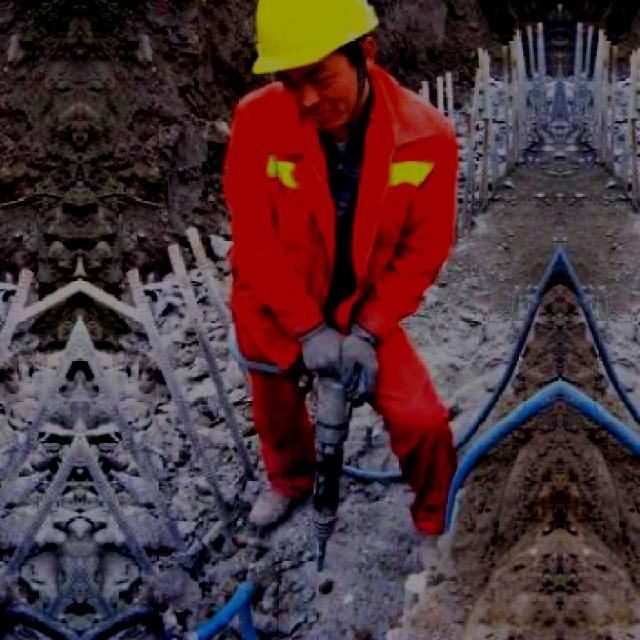safetyhelmet: (240, 0, 388, 101)
